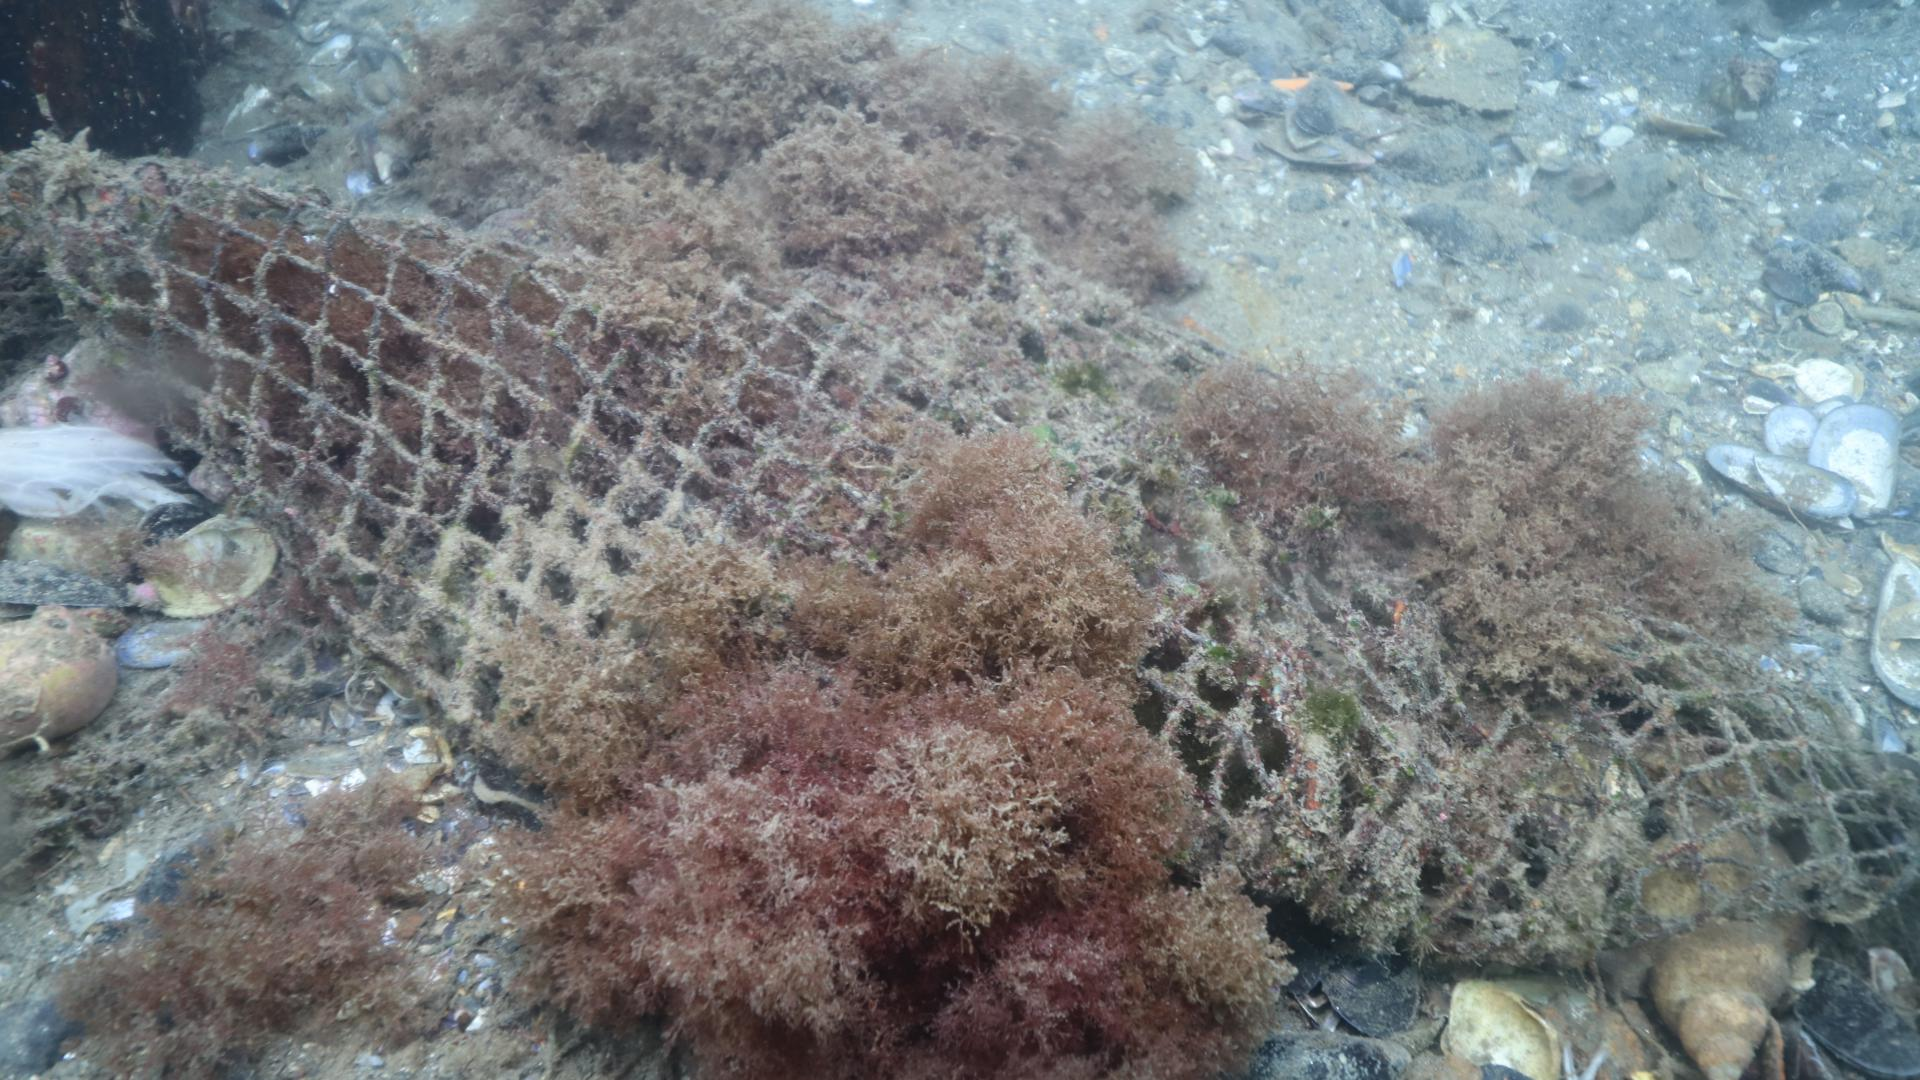fish net: (32, 138, 1920, 957)
